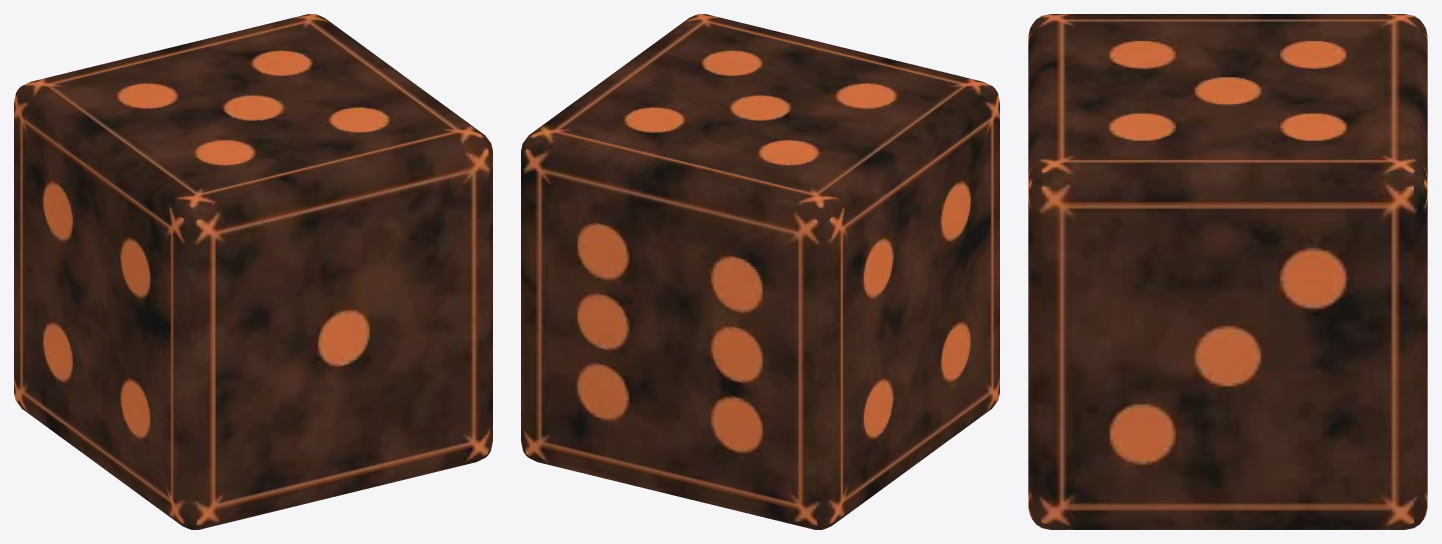
The model's file is daedric-d6.glb.
3 renders of one model, left to right at view 1: azimuth 30°, elevation 25°; view 2: azimuth 150°, elevation 25°; view 3: azimuth 270°, elevation 25°, orthographic. The views are drawn at different scales.
Parts seen in each view (by area): view 1: daedric_d6; view 2: daedric_d6; view 3: daedric_d6.
Boxes of the visible parts, x1=… form: daedric_d6: x1=14, y1=14, x2=492, y2=529; daedric_d6: x1=521, y1=14, x2=999, y2=529; daedric_d6: x1=1028, y1=14, x2=1427, y2=529.
Bounding box in the file's own units: 1.4 × 1.4 × 1.4.
1 material, 1 textured.
